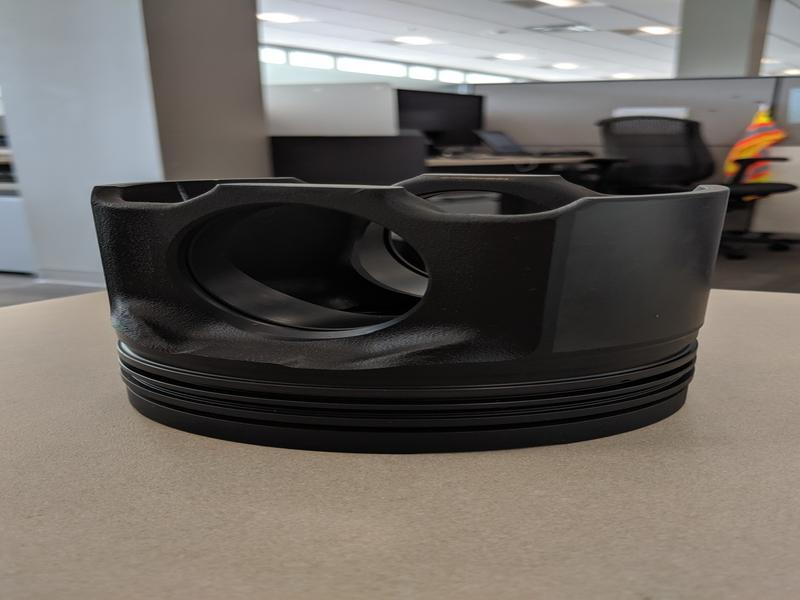piston: (85, 168, 733, 458)
